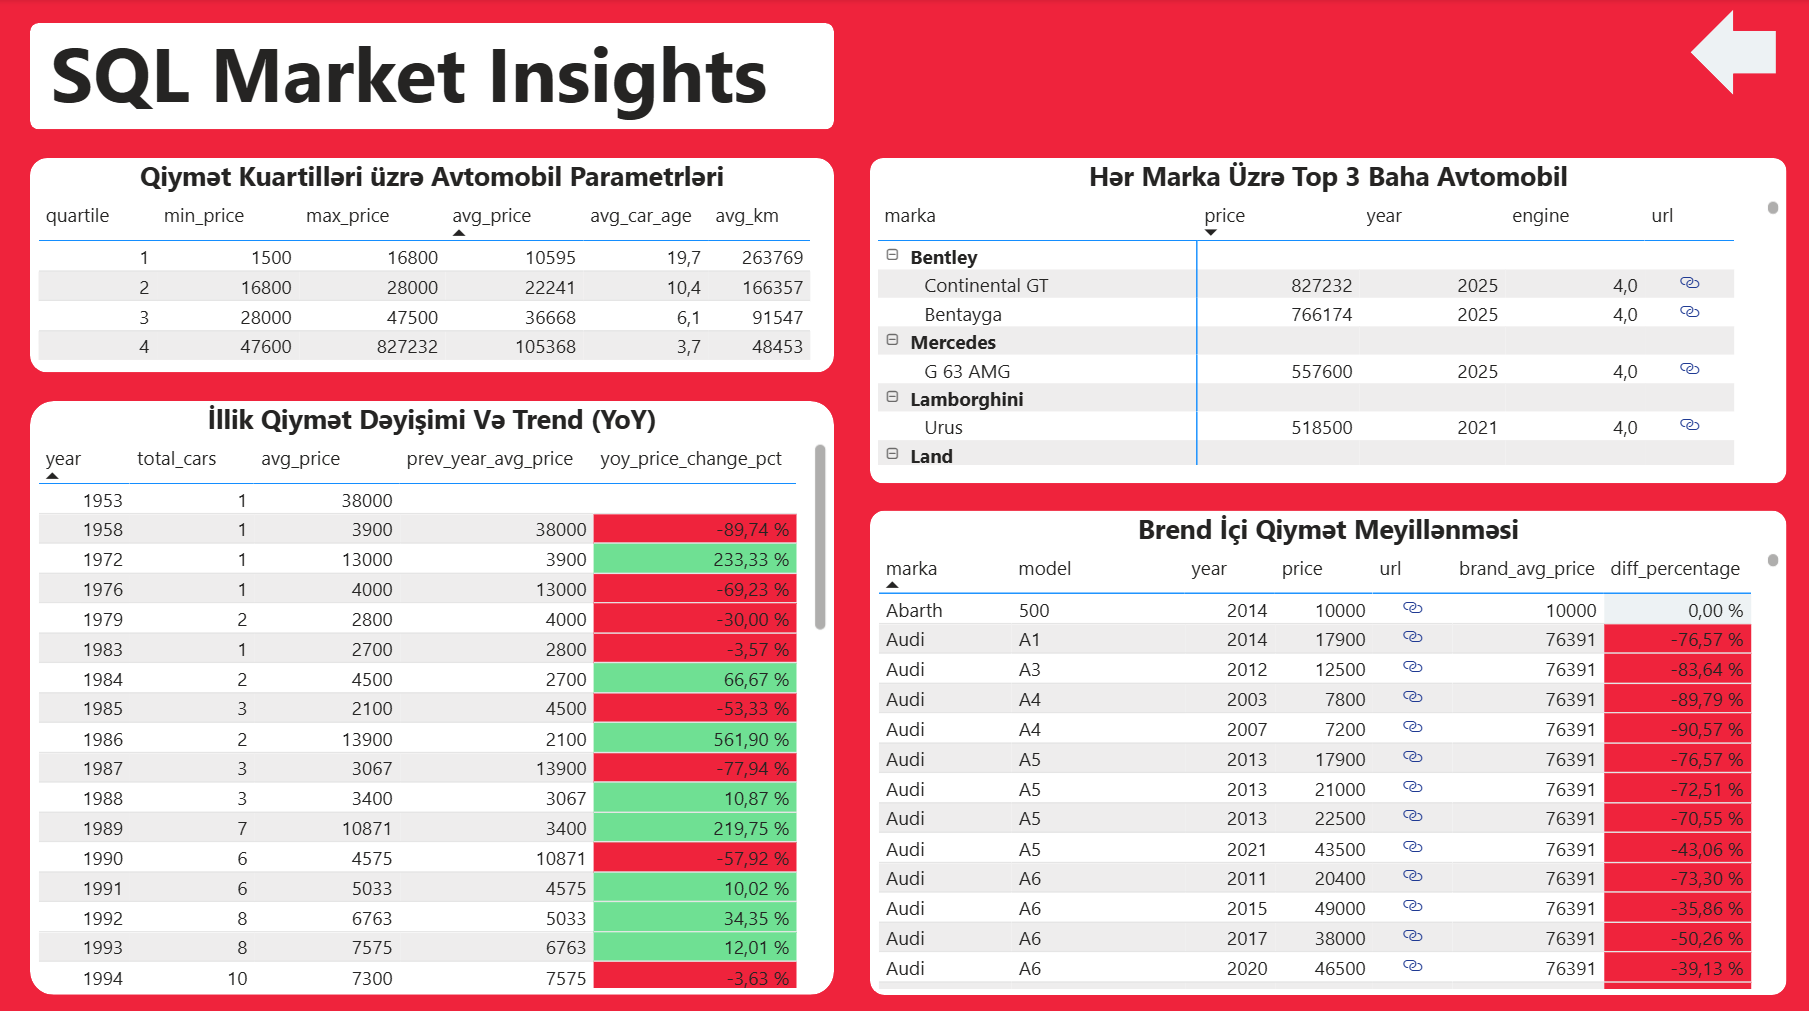

The page's visual inventory and layout, read from the dashboard file:
{"tool":"powerbi","page":{"name":"SQL Market Insights","canvas":[1280,720],"ordinal":1},"visuals":[{"type":"shape","box":[23.2,16.9,565.3,74.9],"z":0},{"type":"shape","box":[23.2,111.8,565.3,150.8],"z":1},{"type":"shape","box":[613.8,359.7,644.4,340.7],"z":2},{"type":"shape","box":[23.2,282.7,565.3,417.7],"z":3},{"type":"shape","box":[613.8,111.8,644.4,228.9],"z":4},{"type":"tableEx","title":"Qiymət Kuartilləri üzrə Avtomobil Parametrləri","fields":{"Values":["price_quartiles_summary.quartile","price_quartiles_summary.min_price","price_quartiles_summary.max_price","price_quartiles_summary.avg_price","price_quartiles_summary.avg_car_age","price_quartiles_summary.avg_mileage_km"]},"box":[23.2,111.8,565.3,150.8],"z":5},{"type":"tableEx","title":"İllik Qiymət Dəyişimi Və Trend (YoY)","fields":{"Values":["yearly_price_trends.year","yearly_price_trends.total_cars","yearly_price_trends.avg_price","yearly_price_trends.prev_year_avg_price","yearly_price_trends.yoy_price_change_pct"]},"box":[23.2,282.7,565.3,417.7],"z":6},{"type":"tableEx","title":"Brend İçi Qiymət Meyillənməsi","fields":{"Values":["brand_price_deviation.marka","brand_price_deviation.model","brand_price_deviation.year","brand_price_deviation.price","brand_price_deviation.url","brand_price_deviation.brand_avg_price","brand_price_deviation.diff_percentage"]},"box":[613.8,359.7,644.4,340.7],"z":7},{"type":"pivotTable","title":"Hər Marka Üzrə Top 3 Baha Avtomobil","fields":{"Values":["Max(top_3_cars_per_brand.price)","Max(top_3_cars_per_brand.year)","Max(top_3_cars_per_brand.engine)","Min(turbo_cars.url)"],"Rows":["top_3_cars_per_brand.marka","top_3_cars_per_brand.model"]},"box":[613.8,111.8,644.4,220.4],"z":8},{"type":"textbox","box":[32.7,9.5,542.1,82.3],"z":9},{"type":"shape","box":[1191,7,60.1,60.1],"z":10}]}

Visuals, with their boxes in screenshot pixels (x1, y1, x2, y2), scaled from the page's 1280x720 canvas onto the 1809x1011 screenshot:
shape: rect(33, 24, 832, 129)
shape: rect(33, 157, 832, 369)
shape: rect(867, 505, 1778, 983)
shape: rect(33, 397, 832, 983)
shape: rect(867, 157, 1778, 478)
"Qiymət Kuartilləri üzrə Avtomobil Parametrləri" tableEx: rect(33, 157, 832, 369)
"İllik Qiymət Dəyişimi Və Trend (YoY)" tableEx: rect(33, 397, 832, 983)
"Brend İçi Qiymət Meyillənməsi" tableEx: rect(867, 505, 1778, 983)
"Hər Marka Üzrə Top 3 Baha Avtomobil" pivotTable: rect(867, 157, 1778, 466)
textbox: rect(46, 13, 812, 129)
shape: rect(1683, 10, 1768, 94)
